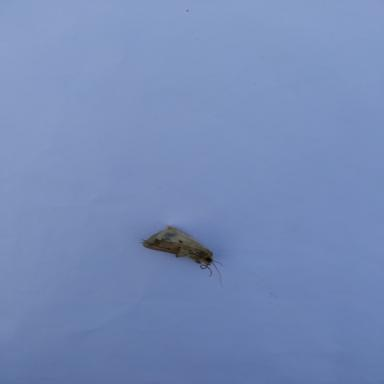abw: (138, 222, 234, 290)
